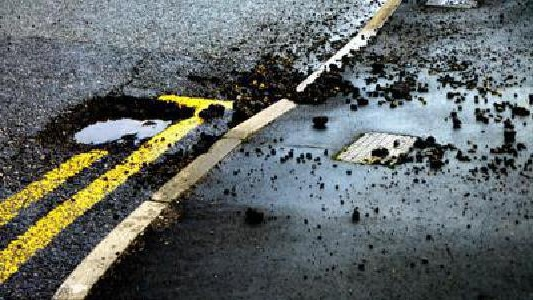pothole: (36, 91, 195, 152)
